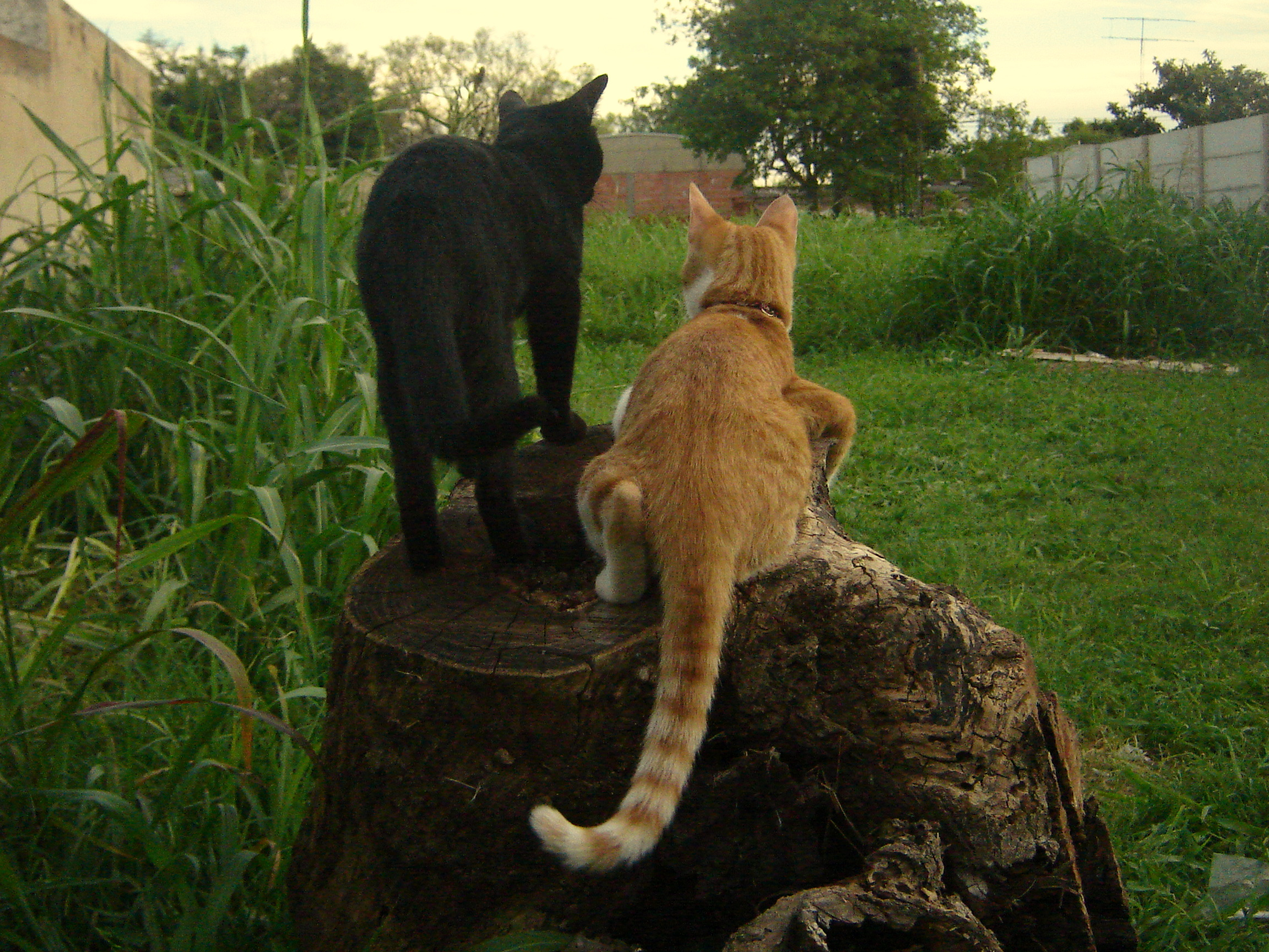cat: (529, 179, 850, 882), (354, 75, 604, 575)
